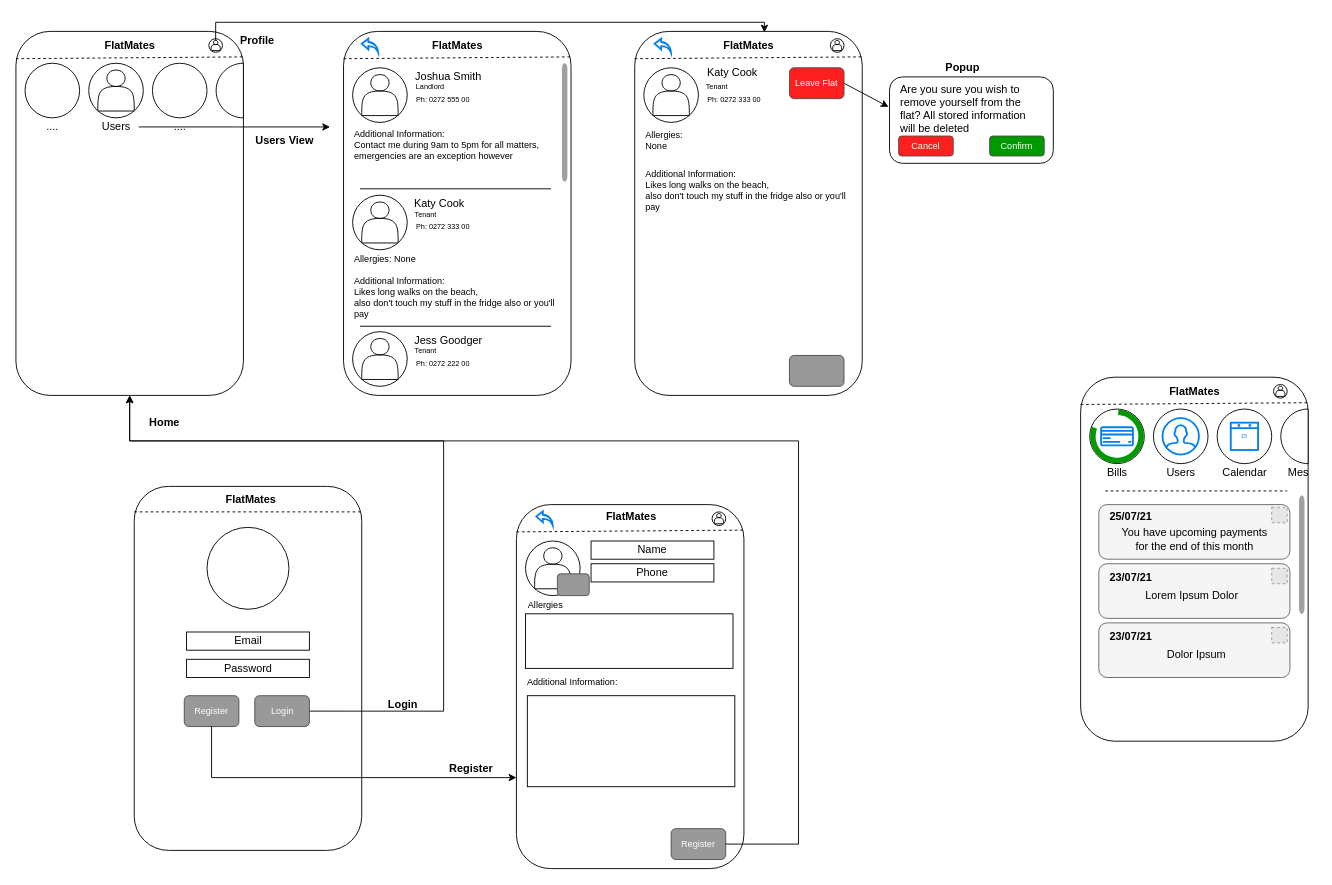
Some shapes in this 1332 by 885 pixel diagram are drawn without their labels. Grey dashed boxes stand in for pictures. The centre of each missing label's shape, as x and y in pixels:
Edit Details: the point at 816,370
Logo: the point at 247,567
Upload Photo: the point at 572,584
